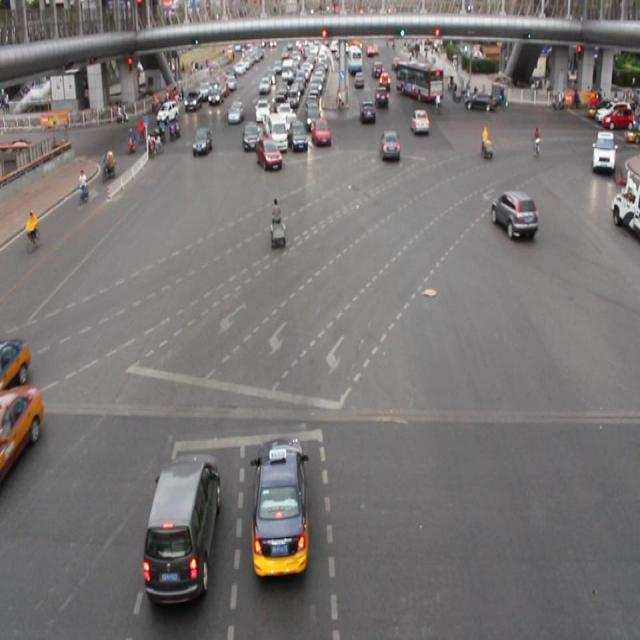car: (250, 436, 311, 576), (1, 384, 43, 480), (490, 188, 538, 240), (0, 336, 32, 391), (256, 136, 280, 170), (380, 128, 401, 162), (288, 117, 307, 153), (190, 125, 212, 156), (311, 116, 330, 148), (410, 107, 430, 136), (241, 120, 259, 151), (359, 100, 376, 128)
truck: (144, 451, 219, 604), (267, 113, 287, 151)
